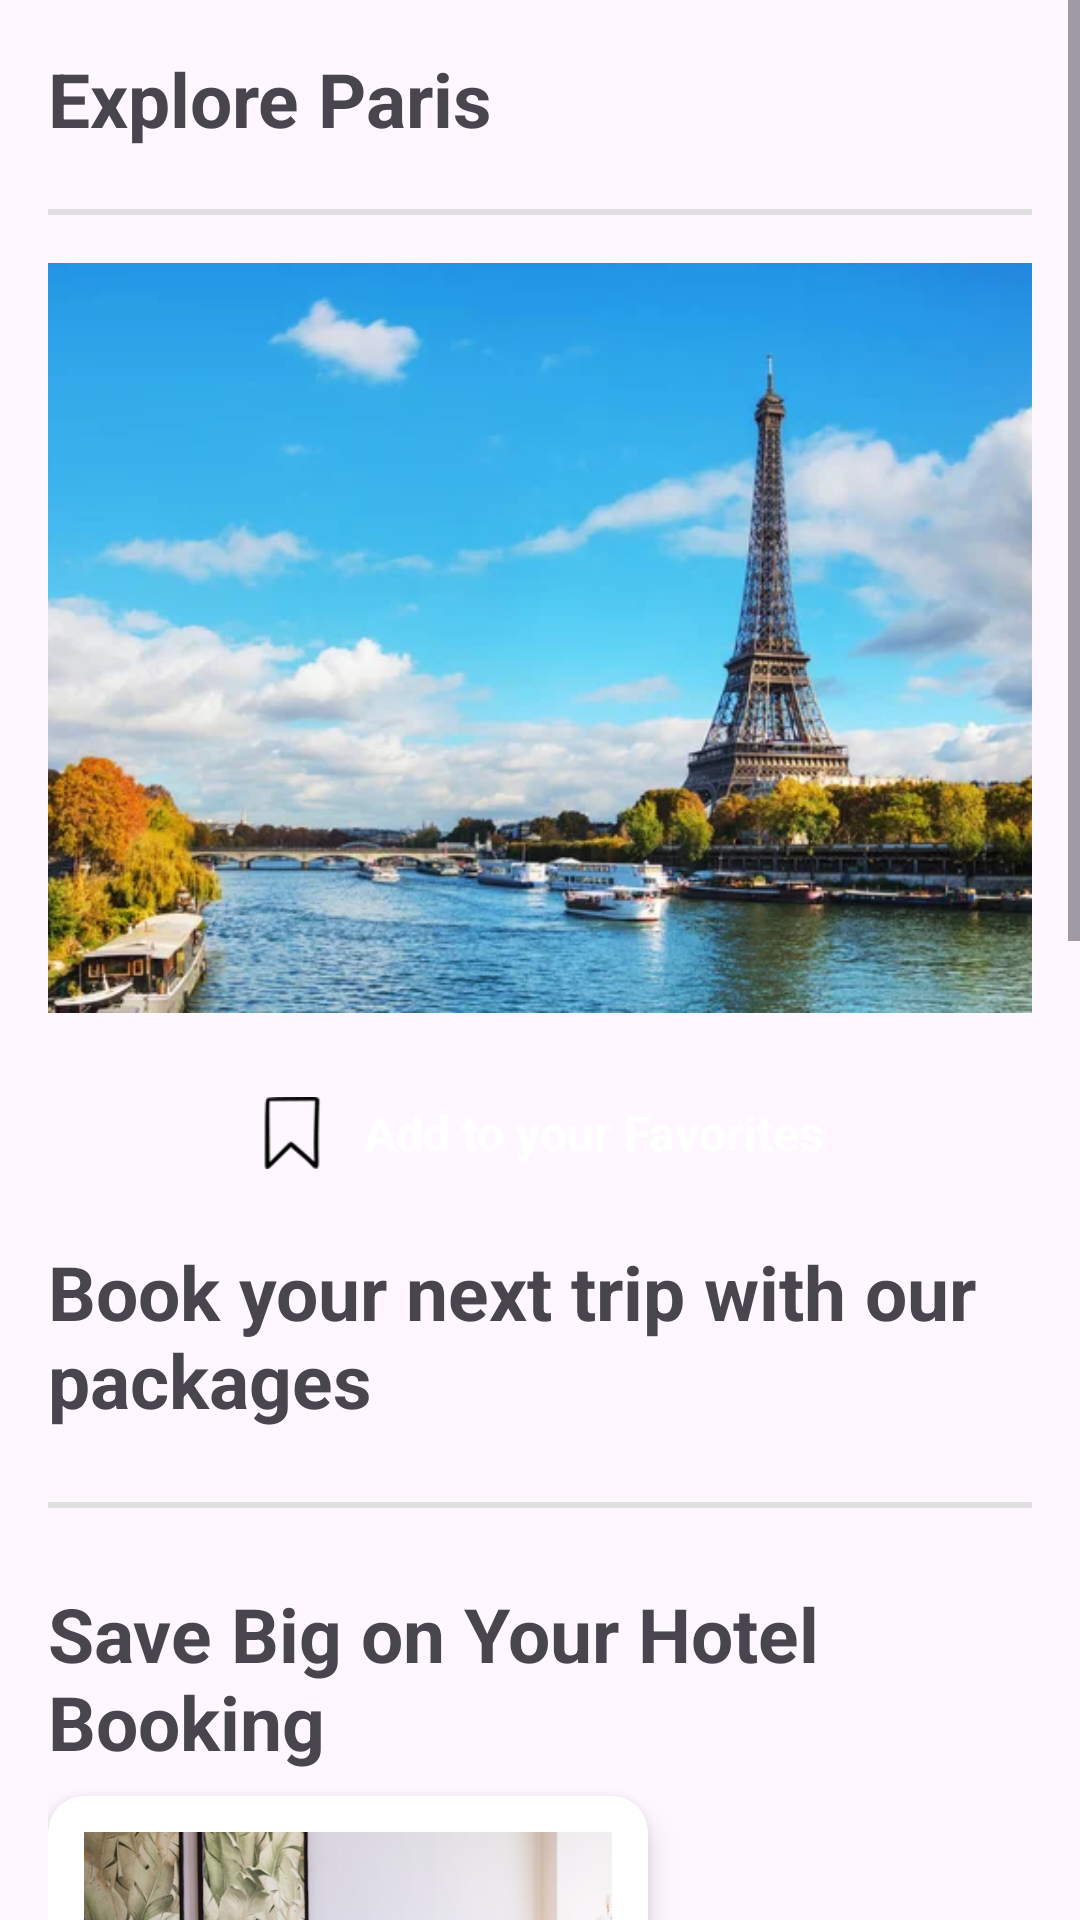

Icons on this 1080 x 1920 Android screen, each with the point to tap as point (x, y):
Favorite Icon: point (292, 1133)
